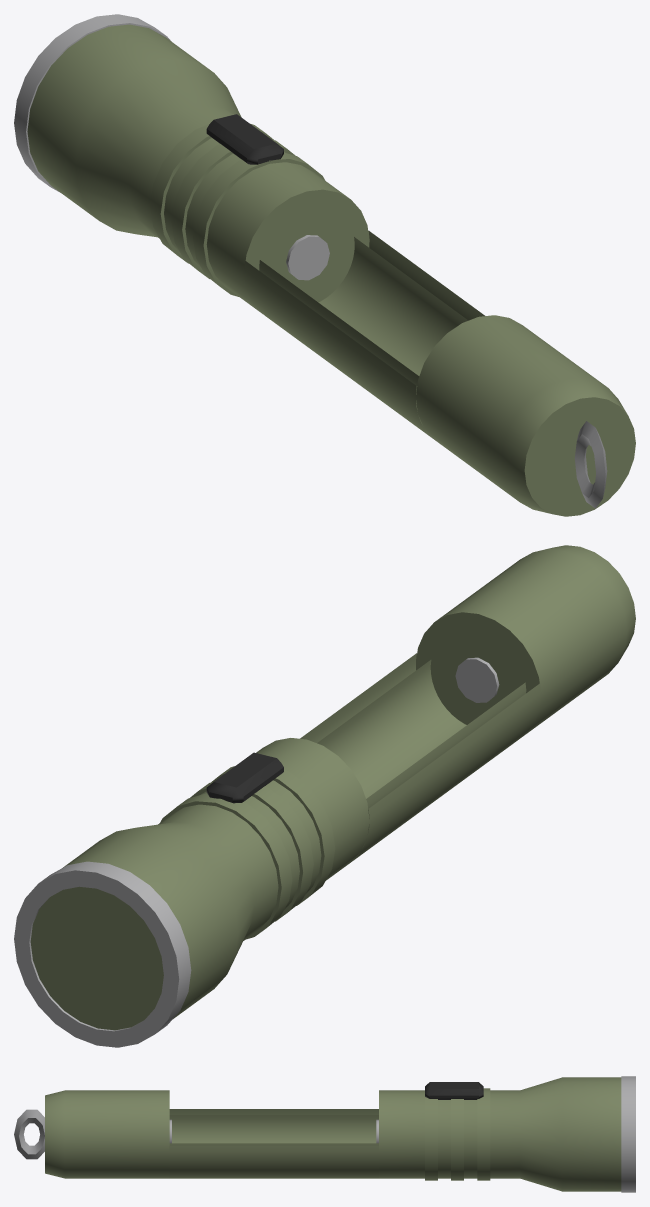
File: flashlight.glb
3 renders of one model, top to bottom at view 1: azimuth 30°, elevation 25°; view 2: azimuth 150°, elevation 25°; view 3: azimuth 270°, elevation 25°, orthographic. The views are drawn at different scales.
Parts seen in each view (by area): view 1: body; view 2: body; view 3: body.
Boxes of the visible parts, x1,y1,x2,y2 form: body: (14, 14, 635, 516); body: (14, 545, 635, 1047); body: (14, 1076, 635, 1192).
Size of the model in its own units: 0.0356 by 0.0356 by 0.19.
